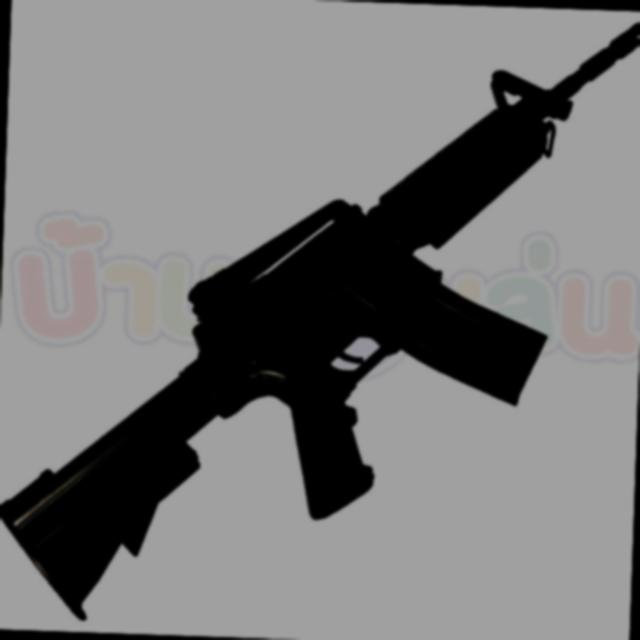m16: (18, 9, 634, 636)
